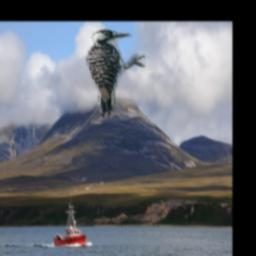Woodpecker: (84, 28, 146, 118)
